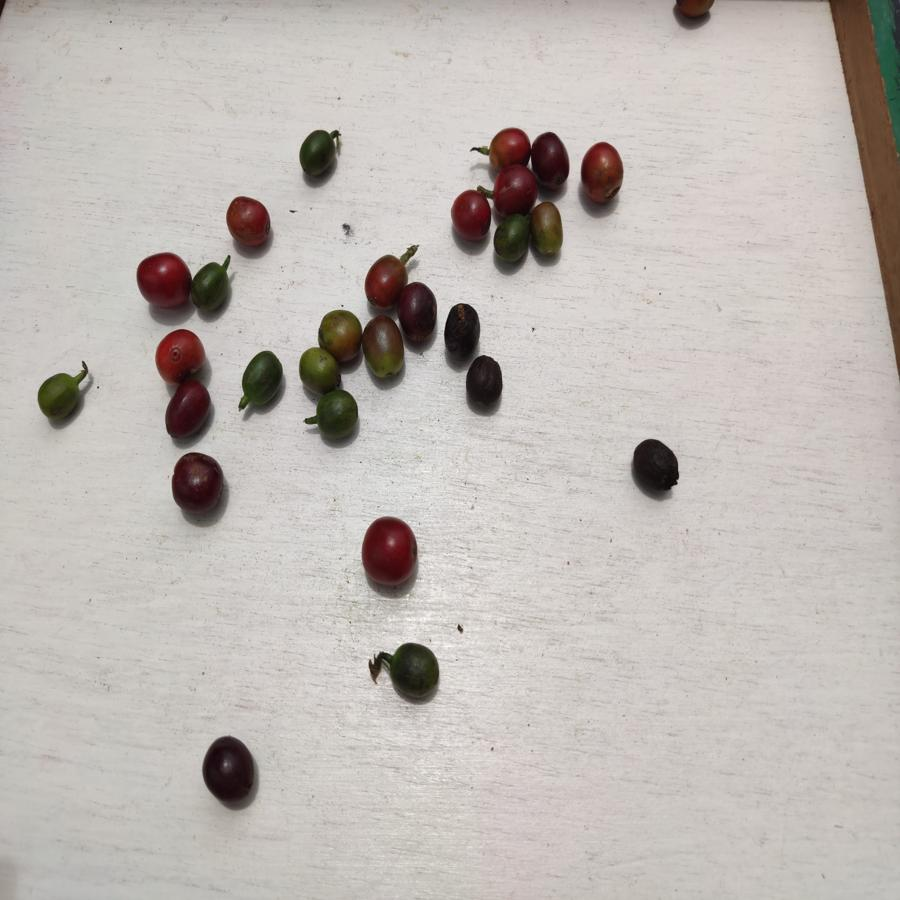Inmaduro: (388, 641, 441, 699), (239, 349, 285, 410), (36, 370, 81, 426), (316, 388, 358, 440), (297, 130, 340, 180), (298, 349, 340, 395), (192, 263, 232, 311), (494, 215, 529, 266)
Maduro: (360, 514, 422, 592), (136, 251, 189, 312), (581, 141, 626, 207), (227, 193, 273, 253), (155, 328, 206, 381), (365, 252, 399, 308), (489, 127, 532, 164)
Pinton: (363, 314, 404, 385), (531, 202, 564, 261), (317, 308, 363, 349)
Sobremaduro: (198, 733, 262, 804), (168, 450, 227, 516), (630, 437, 679, 497), (164, 382, 210, 439), (465, 354, 508, 409), (533, 131, 572, 190), (400, 283, 438, 341), (444, 299, 480, 360), (450, 189, 490, 242), (489, 165, 534, 212)
